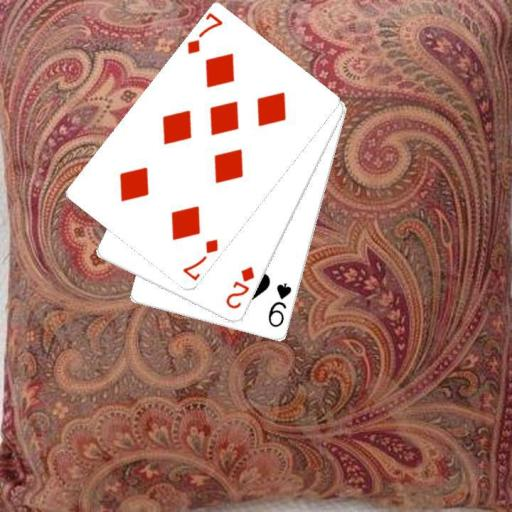2D: (223, 264, 256, 311)
7D: (180, 236, 221, 282), (184, 11, 225, 57)
9S: (265, 280, 294, 330)
